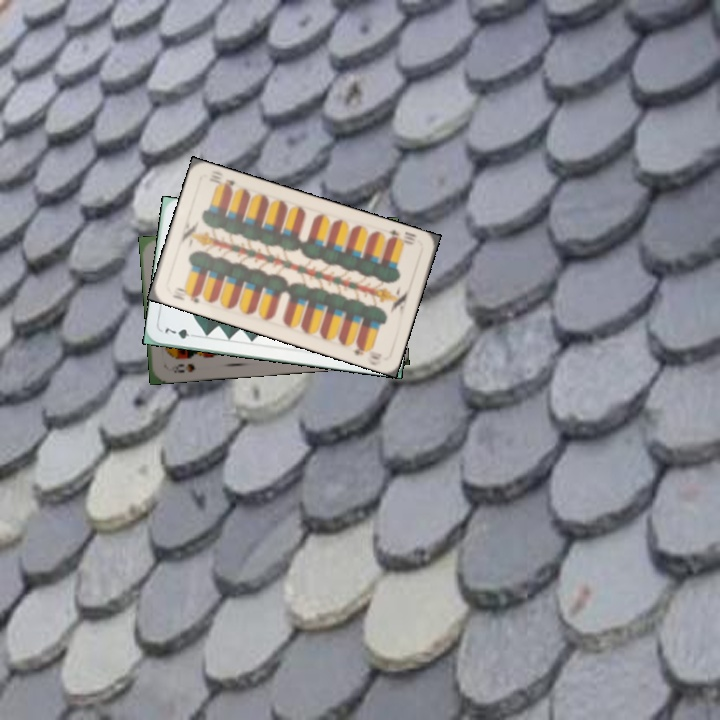E10: (169, 283, 203, 306), (384, 226, 416, 247)
G7: (161, 324, 200, 342)
S8: (164, 359, 197, 376)
